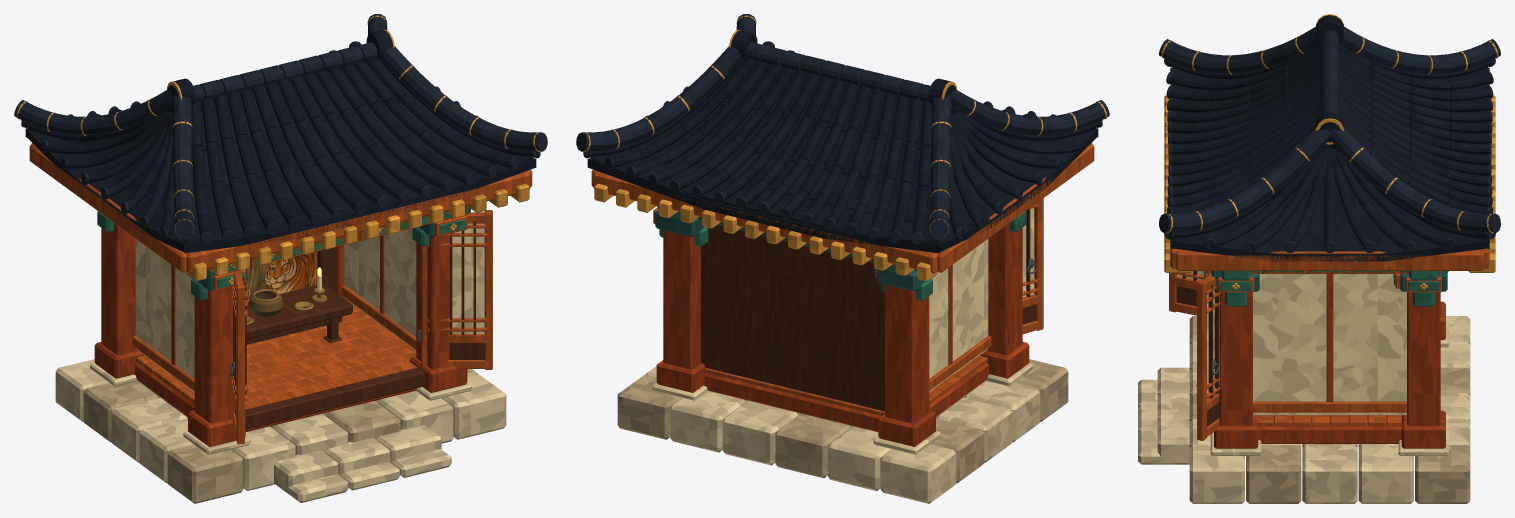
File: Test_Cheon_MountainSpiritShrine.fbx
3 renders of one model, left to right at view 1: azimuth 30°, elevation 25°; view 2: azimuth 150°, elevation 25°; view 3: azimuth 270°, elevation 25°, orthographic.
Visible parts, largest first — view 1: Shrine_SideHanji, Shrine_SideHanji.001, Shrine_Pillar_Post, Shrine_Pillar_Post.001, ShrineRoof_EaveFascia, ShrineRoof_Front_UnderRoof, Shrine_FrontSill, ShrineRoof_HipSide_-1, Shrine_Stone_0_0, ShrineRoof_Front_HipRoll_1, Shrine_Pillar_Post.002, ShrineRoof_Back_HipRoll_-1 (+46 smaller); view 2: Shrine_BackWall, Shrine_Pillar_Post.001, Shrine_SideHanji, Shrine_Pillar_Post.003, ShrineRoof_Back_UnderRoof, Shrine_Pillar_Post, Shrine_FloorSupport, ShrineRoof_HipSide_-1, Shrine_Stone_0_4, ShrineRoof_Back_HipRoll_1, ShrineRoof_EaveFascia.001, Shrine_Stone_3_4 (+27 smaller); view 3: Shrine_SideHanji.001, ShrineRoof_HipSide_1, ShrineRoof_SideFascia.001, Shrine_Pillar_Post.003, Shrine_Pillar_Post.002, ShrineRoof_Front_HipRoll_1, ShrineRoof_Back_HipRoll_1, Shrine_Stone_5_2, Shrine_Stone_5_1, Shrine_Stone_5_3, ShrineRoof_Back_HipRoll_-1, ShrineRoof_Front_HipRoll_-1 (+57 smaller).
Part boxes in pixels (x1,y1,x2,y2): Shrine_SideHanji: [135, 239, 194, 391]; Shrine_SideHanji.001: [344, 228, 416, 350]; Shrine_Pillar_Post: [194, 287, 234, 423]; Shrine_Pillar_Post.001: [101, 223, 137, 354]; ShrineRoof_EaveFascia: [186, 171, 530, 273]; ShrineRoof_Front_UnderRoof: [184, 129, 536, 253]; Shrine_FrontSill: [245, 367, 424, 429]; ShrineRoof_HipSide_-1: [25, 129, 184, 251]; Shrine_Stone_0_0: [167, 444, 243, 503]; ShrineRoof_Front_HipRoll_1: [375, 46, 547, 151]; Shrine_Pillar_Post.002: [416, 236, 449, 369]; ShrineRoof_Back_HipRoll_-1: [14, 90, 172, 135]; Shrine_BackWall: [701, 224, 884, 411]; Shrine_Pillar_Post.001: [885, 270, 929, 423]; Shrine_SideHanji: [929, 239, 988, 391]; Shrine_Pillar_Post.003: [663, 230, 700, 369]; ShrineRoof_Back_UnderRoof: [587, 129, 939, 253]; Shrine_Pillar_Post: [986, 223, 1022, 354]; Shrine_FloorSupport: [703, 362, 989, 431]; ShrineRoof_HipSide_-1: [939, 129, 1098, 251]; Shrine_Stone_0_4: [880, 444, 956, 503]; ShrineRoof_Back_HipRoll_1: [576, 46, 748, 151]; ShrineRoof_EaveFascia.001: [593, 171, 937, 273]; Shrine_Stone_3_4: [722, 401, 798, 465]; Shrine_SideHanji.001: [1253, 274, 1406, 415]; ShrineRoof_HipSide_1: [1170, 148, 1489, 261]; ShrineRoof_SideFascia.001: [1176, 249, 1483, 270]; Shrine_Pillar_Post.003: [1407, 292, 1440, 425]; Shrine_Pillar_Post.002: [1219, 292, 1252, 425]; ShrineRoof_Front_HipRoll_1: [1159, 127, 1329, 232]; ShrineRoof_Back_HipRoll_1: [1330, 127, 1500, 232]; Shrine_Stone_5_2: [1302, 445, 1357, 503]; Shrine_Stone_5_1: [1246, 445, 1301, 503]; Shrine_Stone_5_3: [1358, 445, 1413, 503]; ShrineRoof_Back_HipRoll_-1: [1335, 26, 1500, 73]; ShrineRoof_Front_HipRoll_-1: [1159, 26, 1324, 73].
Bounding box in the file's own units: 4.61 × 4.25 × 3.87.
Materials: 17 (14 with a texture image).
